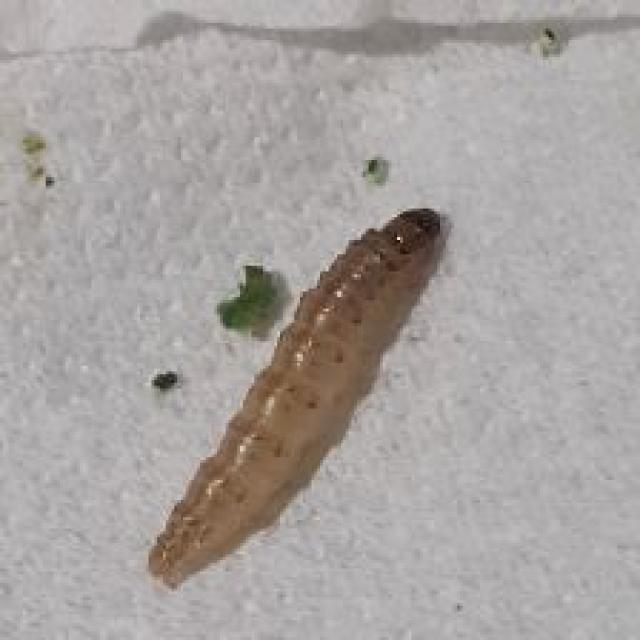white mucus: (140, 194, 473, 574)
